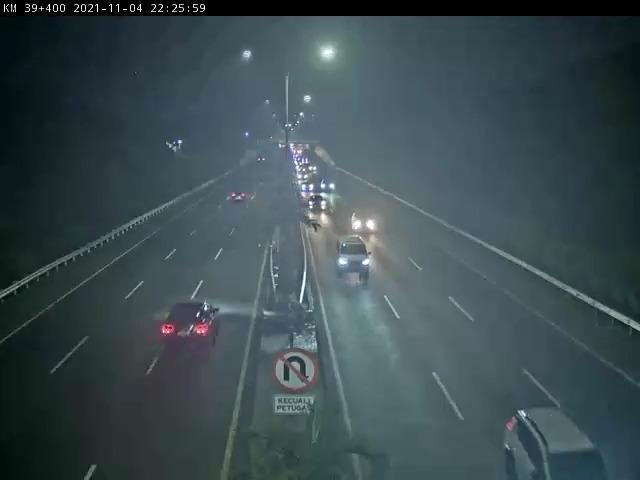car: (504, 409, 612, 480), (167, 301, 220, 346), (336, 237, 371, 282), (352, 212, 379, 235), (312, 198, 331, 213), (322, 179, 337, 192), (302, 182, 316, 193), (231, 192, 247, 200), (308, 163, 318, 171), (300, 172, 308, 180)
